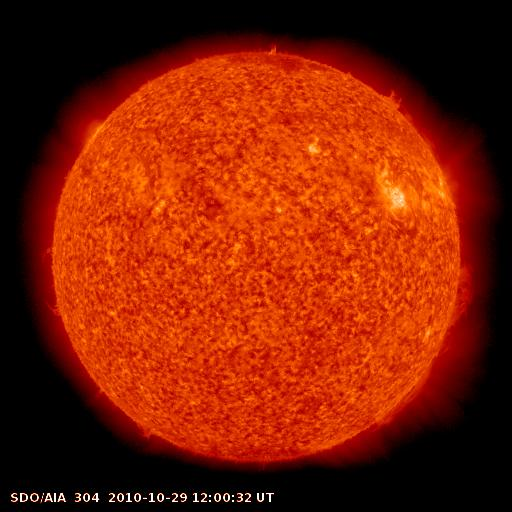prominence: (362, 359, 438, 433), (440, 255, 487, 339), (371, 75, 425, 126), (35, 239, 67, 324), (126, 415, 165, 454), (256, 30, 294, 66)
